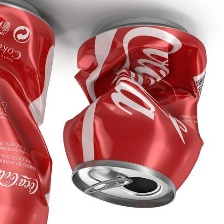can: (59, 11, 212, 210), (0, 0, 59, 224)
